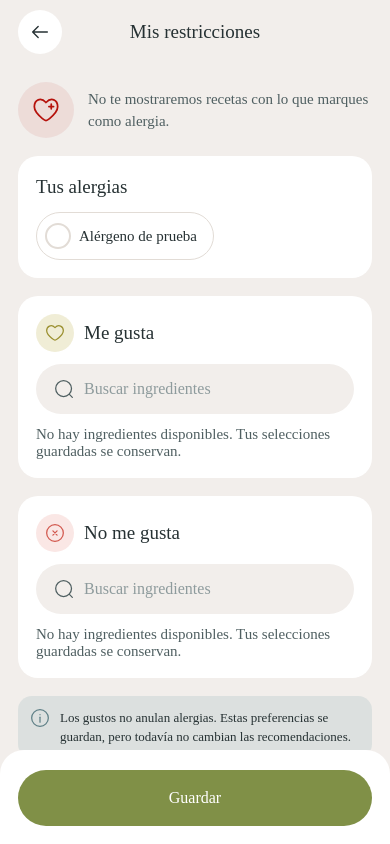
Test: Guardar restricciones no escribe bloques ajenos
Click the button "Guardar": (195, 798) 18,770 -> 372,826
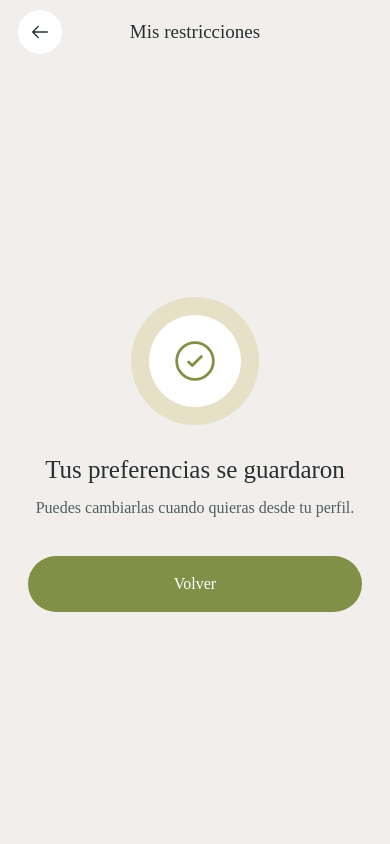
Result: the heading "Tus preferencias se guardaron" is shown at 45,452 -> 345,486
